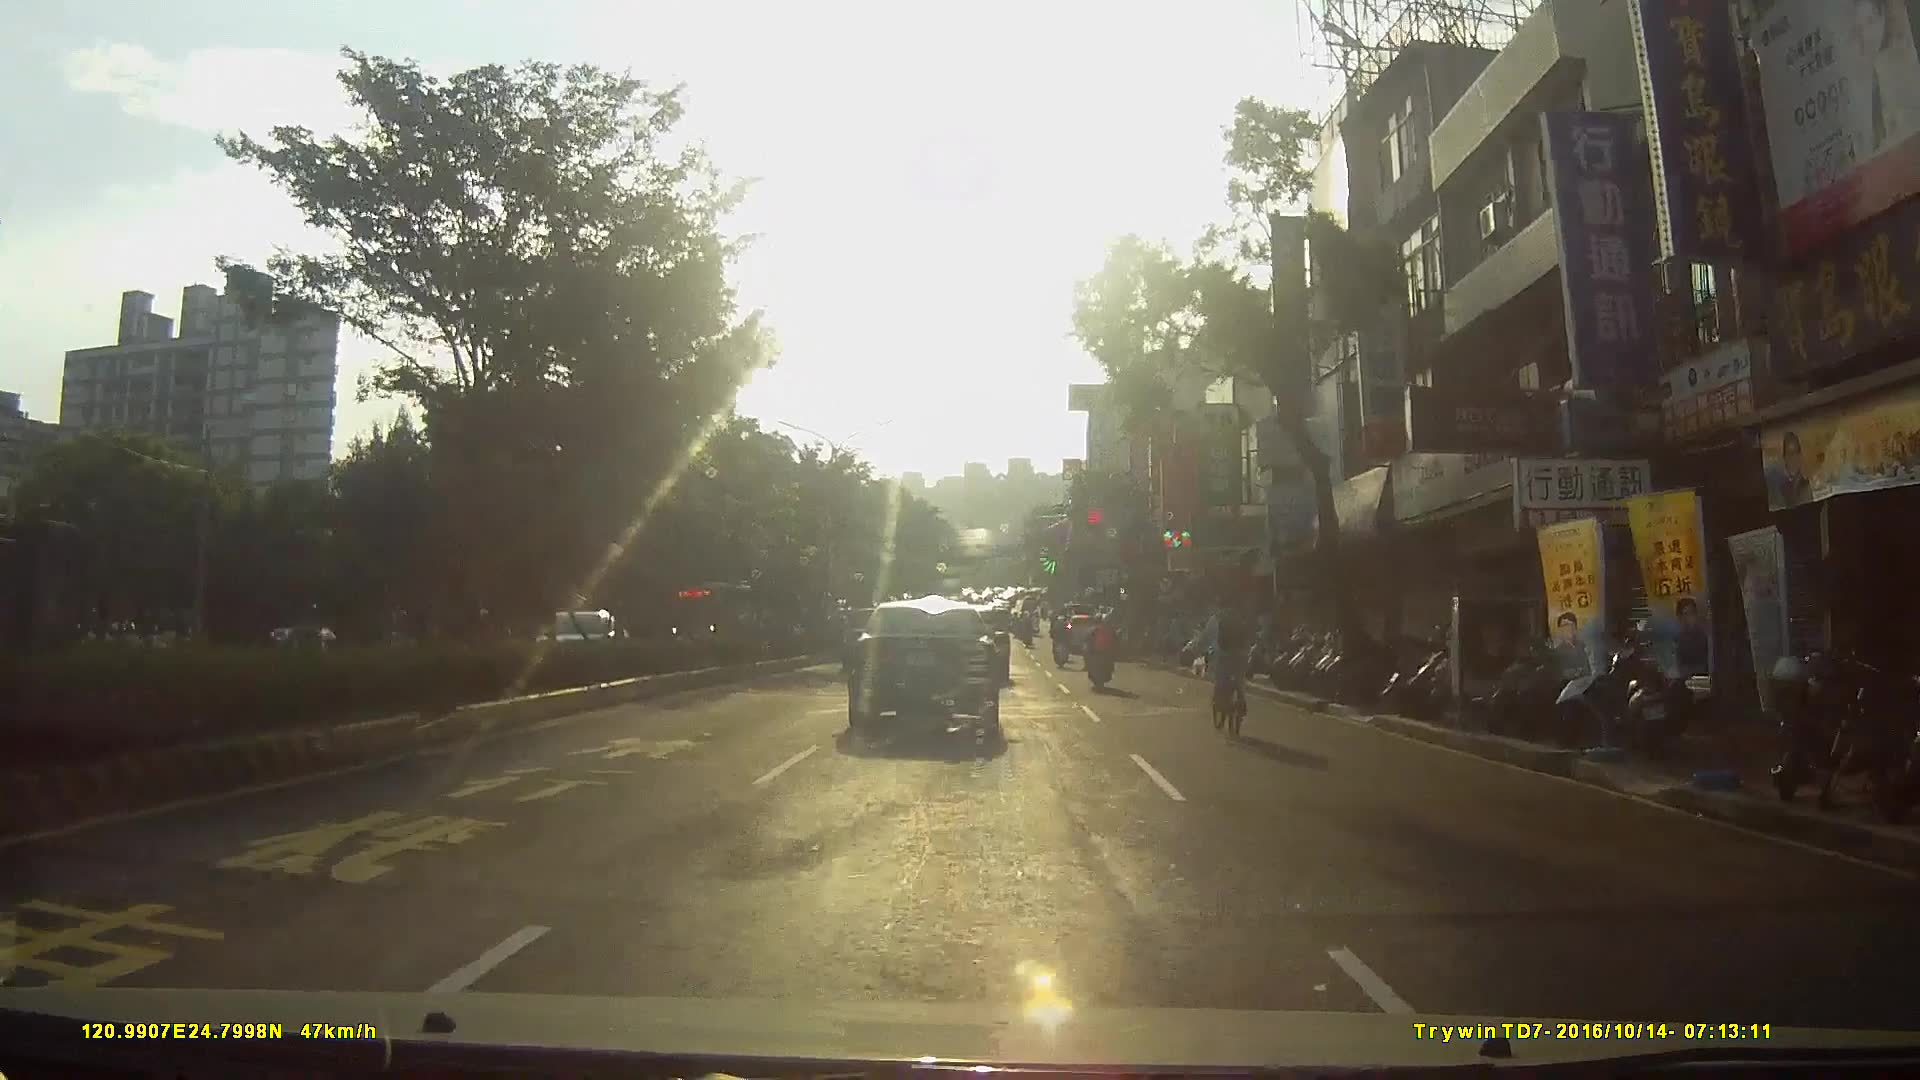rider: (1201, 589, 1268, 738), (285, 604, 339, 682), (1085, 612, 1119, 689), (1050, 610, 1074, 668)
vehicle: (848, 605, 1016, 754), (528, 611, 646, 681)
